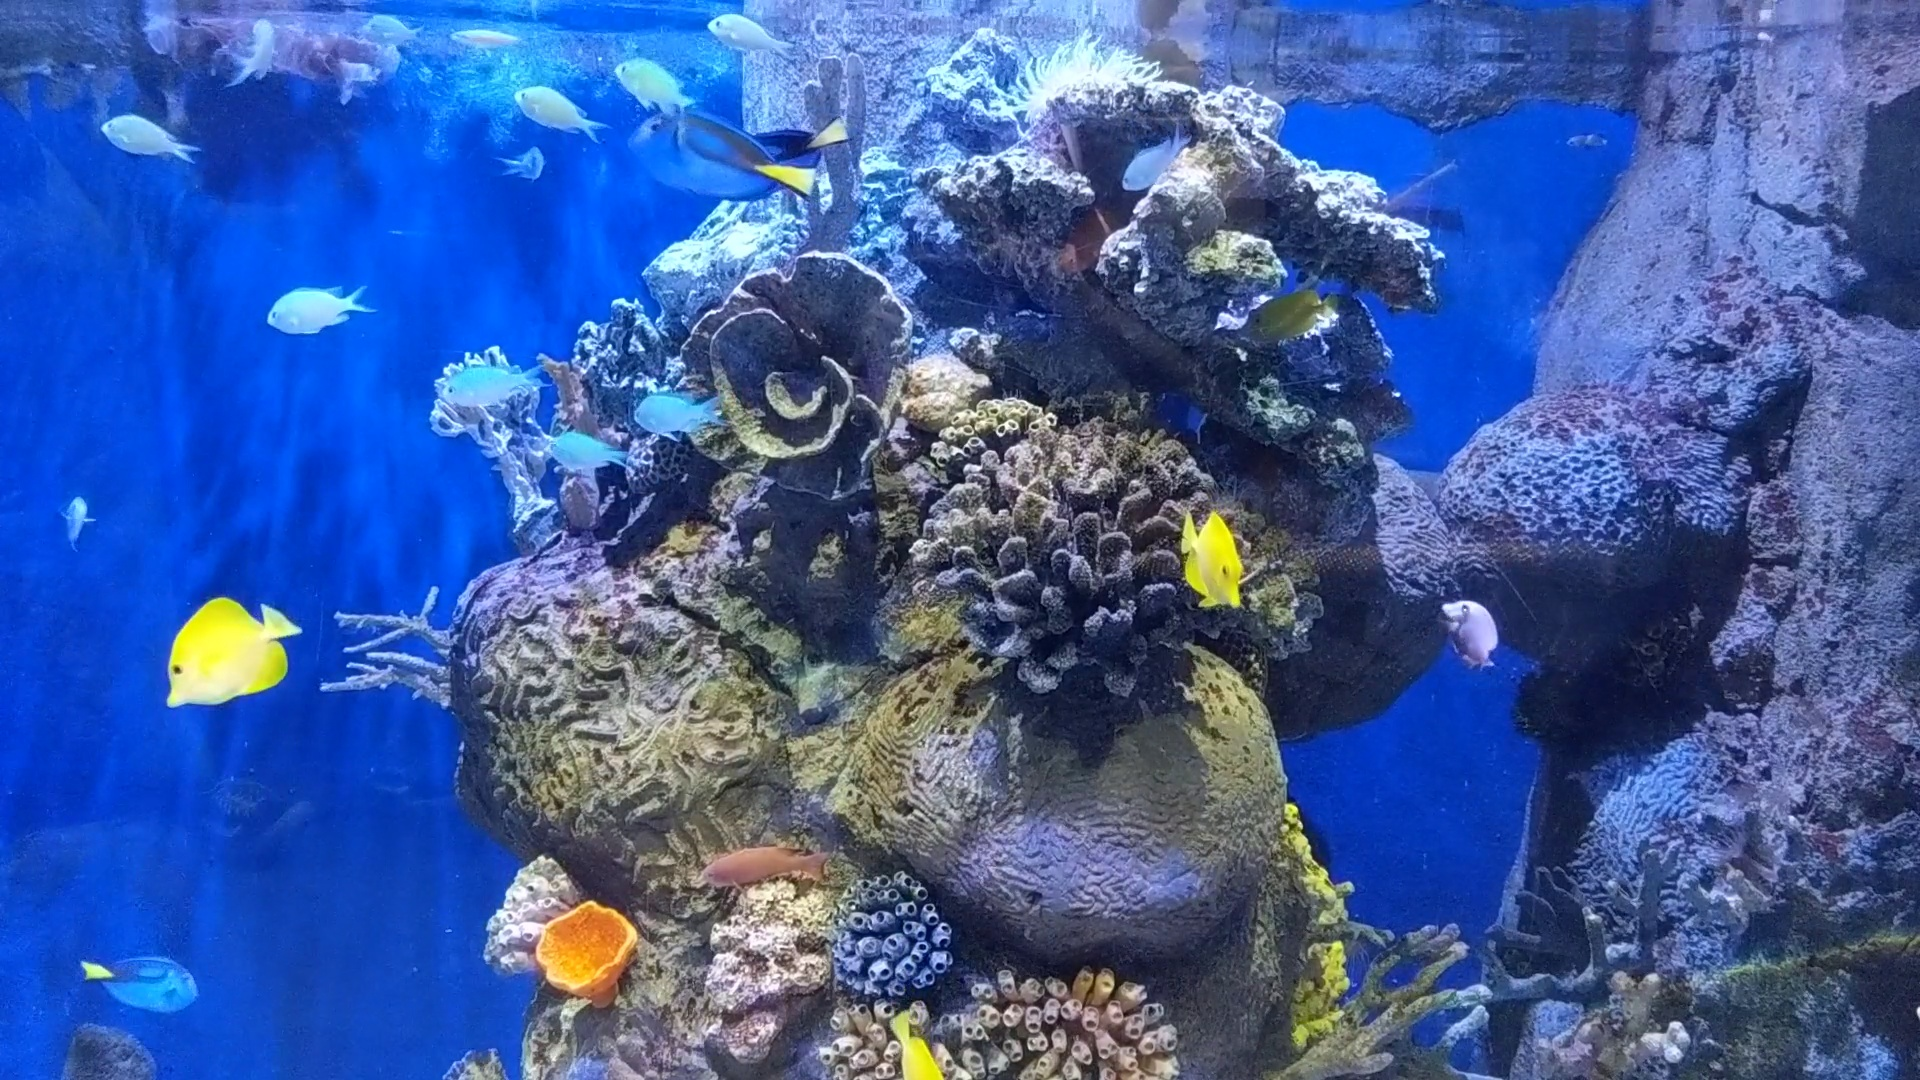blue tang surgeonfish: (620, 111, 822, 214), (69, 947, 212, 1011)
damselfish: (1091, 105, 1201, 193), (520, 418, 642, 495), (430, 340, 538, 418), (258, 270, 368, 344), (502, 75, 608, 152), (87, 102, 206, 167), (628, 382, 731, 446), (698, 9, 799, 73), (611, 51, 699, 111)
pink fish: (1425, 582, 1514, 682)
saddle butterfly fish: (141, 584, 314, 723), (1160, 491, 1261, 615)
